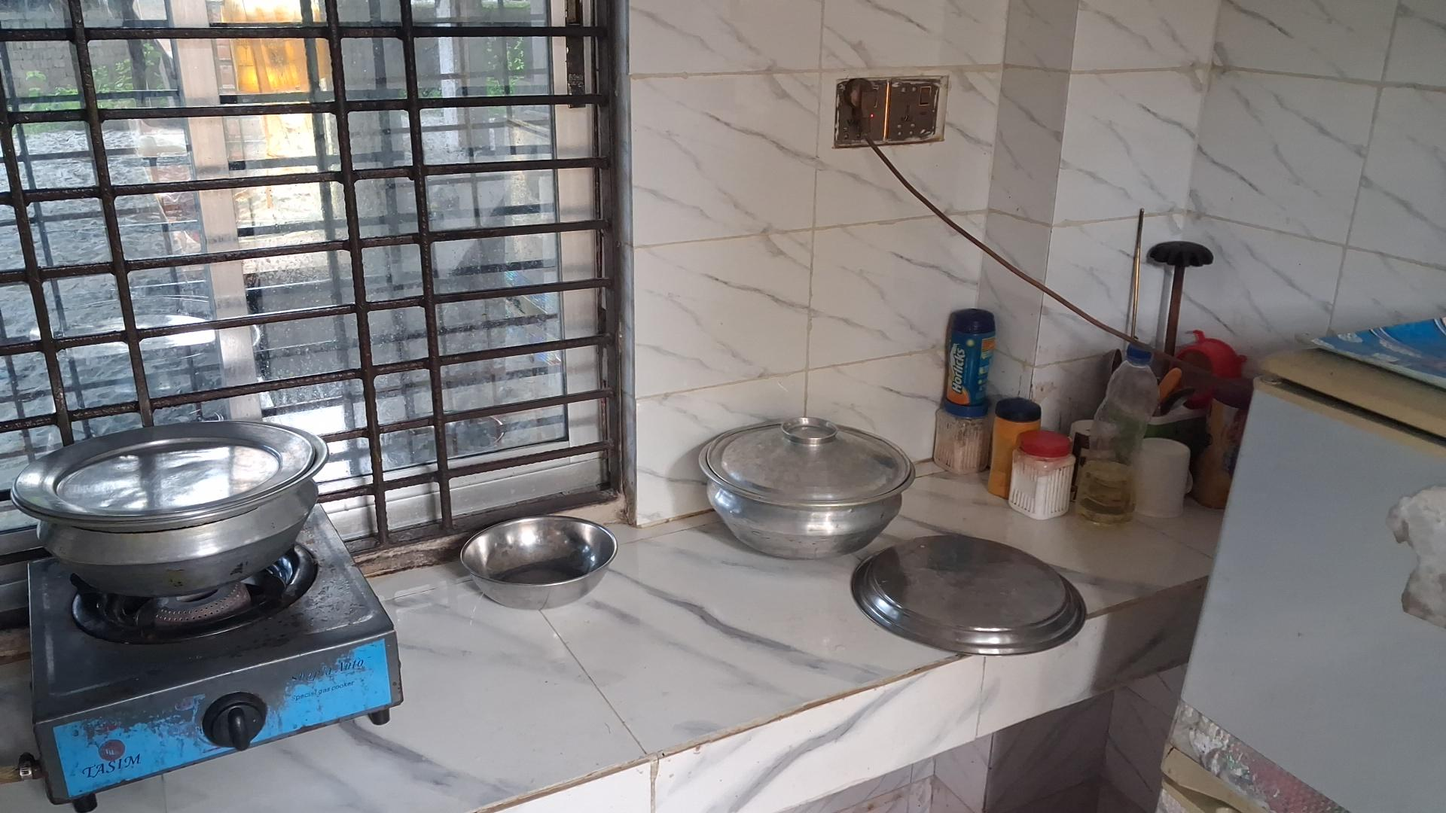Bottle: (1077, 342, 1159, 528)
Bowl: (459, 515, 618, 610)
Cup: (1131, 436, 1192, 518)
Jar: (1010, 430, 1075, 524), (939, 309, 996, 412), (998, 394, 1040, 505), (937, 413, 993, 480)
Plate: (854, 537, 1090, 654)
Pot: (12, 416, 328, 600), (699, 418, 918, 559)
